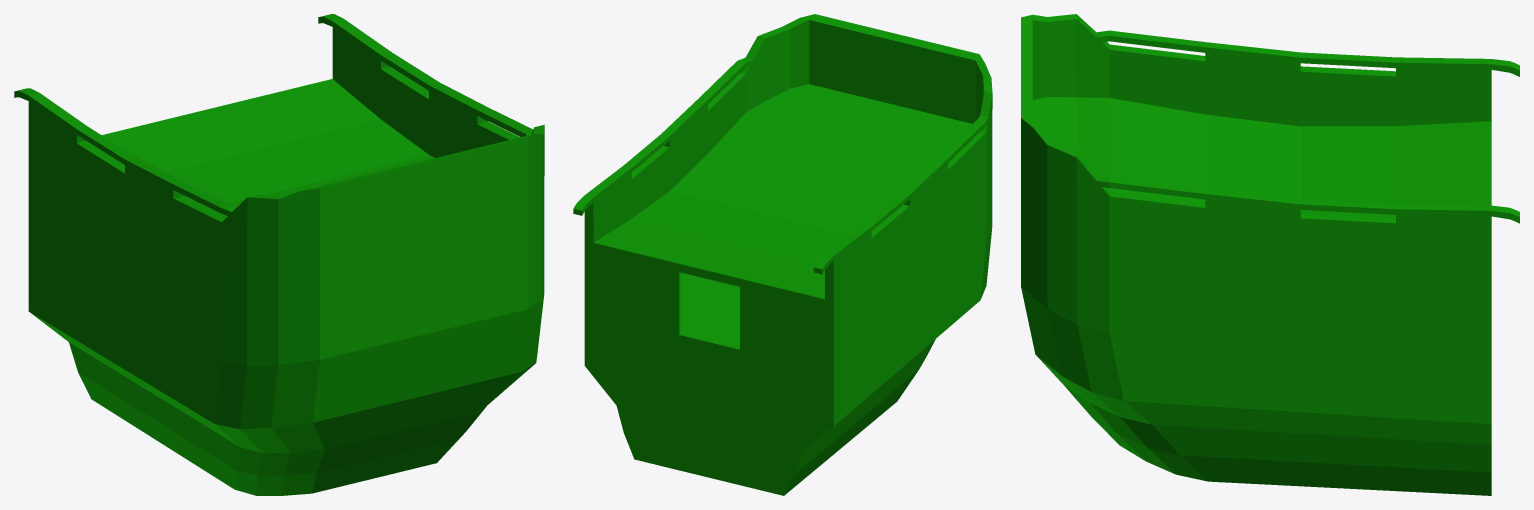
The model's file is Popa_Model.fbx.
3 renders of one model, left to right at view 1: azimuth 30°, elevation 25°; view 2: azimuth 150°, elevation 25°; view 3: azimuth 270°, elevation 25°, orthographic. The views are drawn at different scales.
Parts seen in each view (by area): view 1: Popa; view 2: Popa; view 3: Popa.
Part boxes in pixels (left/top/right/bottom): Popa: left=14, top=14, right=544, bottom=495; Popa: left=573, top=14, right=992, bottom=495; Popa: left=1021, top=14, right=1519, bottom=495.
Size of the model in its own units: 210 by 247 by 292.
